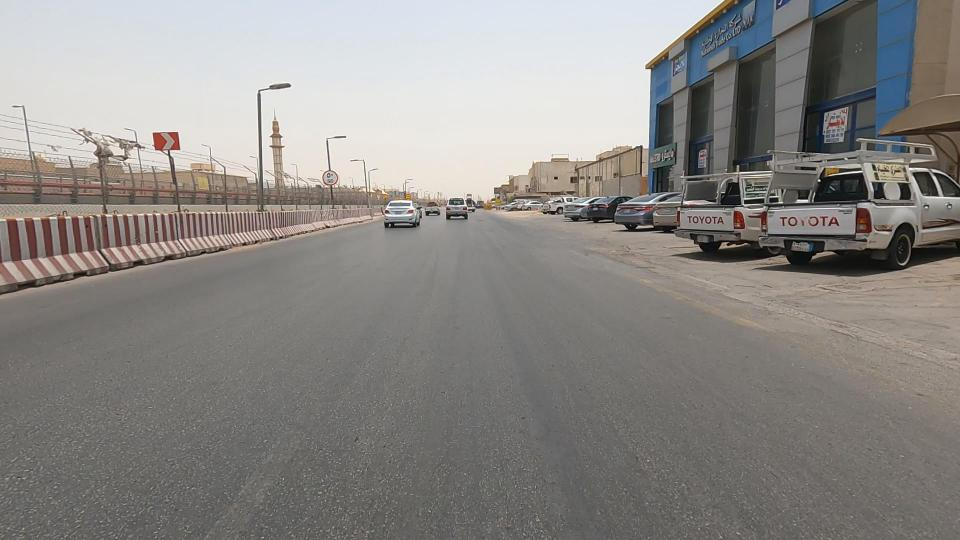CONSTRUCTION_ROAD: (5, 136, 301, 284), (199, 162, 373, 260)
